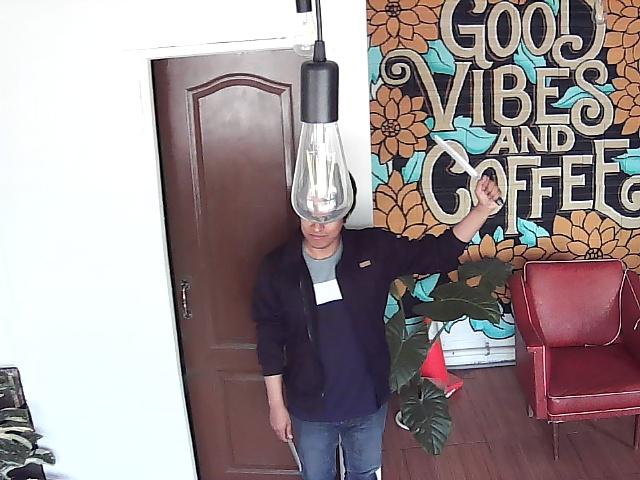cuchillo: (431, 130, 510, 210)
